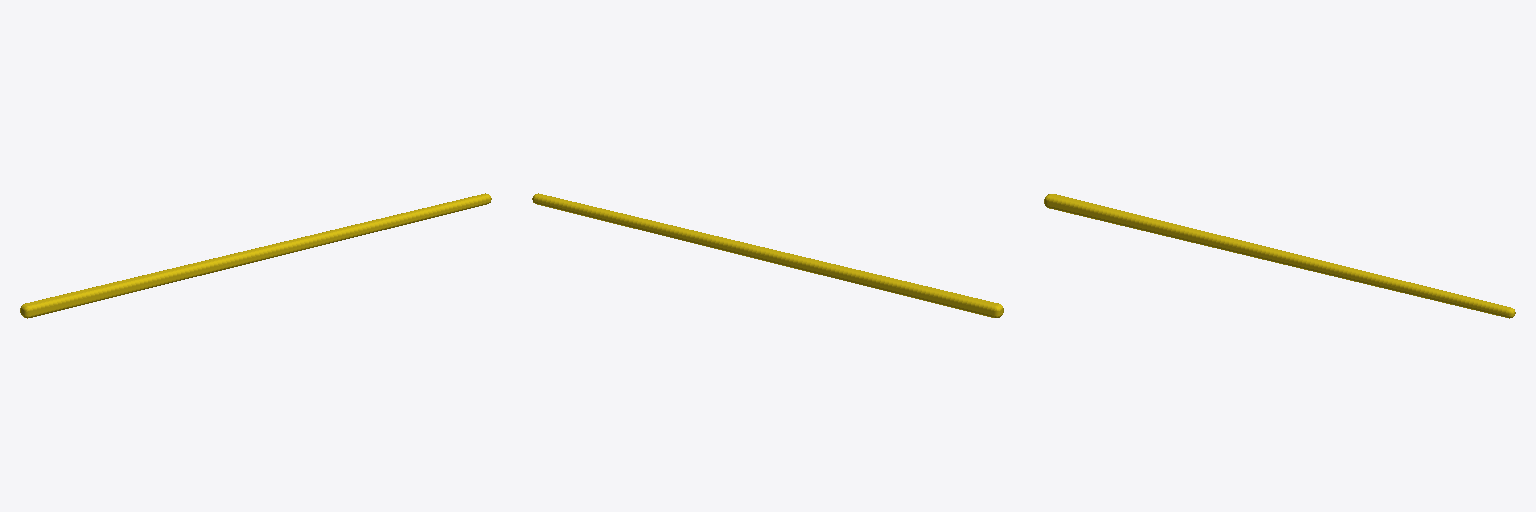
robot.urdf — cb_chopstick_dm15:
<?xml version="1.0"?>
<!-- ContactBench chopstick variant chopstick_dm15. Generated by FoundationTouch tools/contactbench/make_chop_variants.py -->
<robot name="cb_chopstick_dm15">
  <material name="c"><color rgba="0.85 0.75 0.10 1.0"/></material>
  <link name="object">
    <visual><origin xyz="0 0 0" rpy="0 0 0"/><geometry><mesh filename="chopstick_dm15.obj" scale="1 1 1"/></geometry><material name="c"/></visual>
    <collision><origin xyz="0 0 0" rpy="0 0 0"/><geometry><mesh filename="coll_00.obj" scale="1 1 1"/></geometry></collision>
    <inertial><mass value="0.002164"/><origin xyz="0 0 0" rpy="0 0 0"/><inertia ixx="6.241341e-09" ixy="1.598015e-13" ixz="-7.678557e-16" iyy="6.981747e-06" iyz="1.551764e-15" izz="6.981747e-06"/></inertial>
  </link>
</robot>

--- Render facts (derived) ---
The picture shows the robot from 3 angles, left to right: view 1: azimuth 30°, elevation 25°; view 2: azimuth 150°, elevation 25°; view 3: azimuth 330°, elevation 25°; orthographic projection.
Model cb_chopstick_dm15 with 1 links and 0 joints (none), rooted at object, posed all joints at 0.
Visible links, largest first — view 1: object; view 2: object; view 3: object.
Boxes of the visible links, <box> form: object: <box>20,193,491,318</box>; object: <box>532,193,1003,317</box>; object: <box>1044,194,1515,318</box>.
Bounding box of the posed robot: 0.2 × 0.005 × 0.005 m (x, y, z).
Meshes: 1 distinct files referenced, 1 mesh visuals loaded (1 OBJ).
